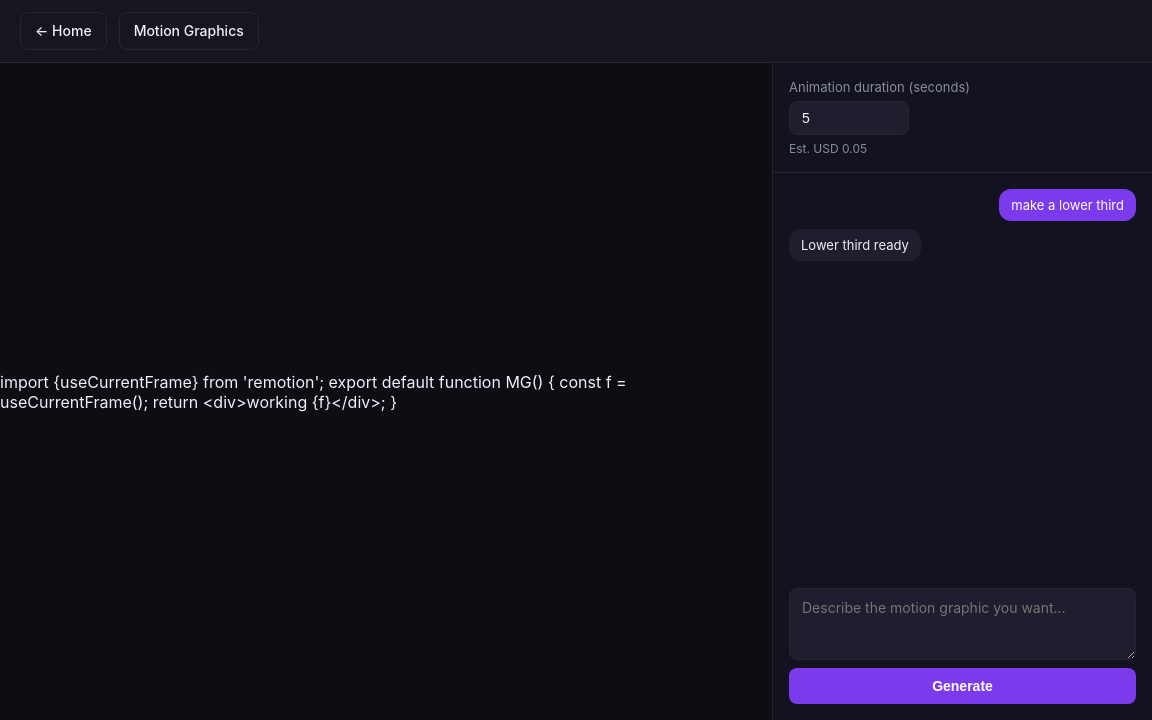
Test case: MotionGraphicAuthoringView (refine + hydration) › records a failed refinement and KEEPS the last working preview unchanged
Expected: the text with test id "mg-preview" shows "working", [0,372,627,412]
Type "Make the name slide in from the left instead." into the text box labelled "Describe the motion graphic you want…" at (962, 624), box [789,588,1136,660]
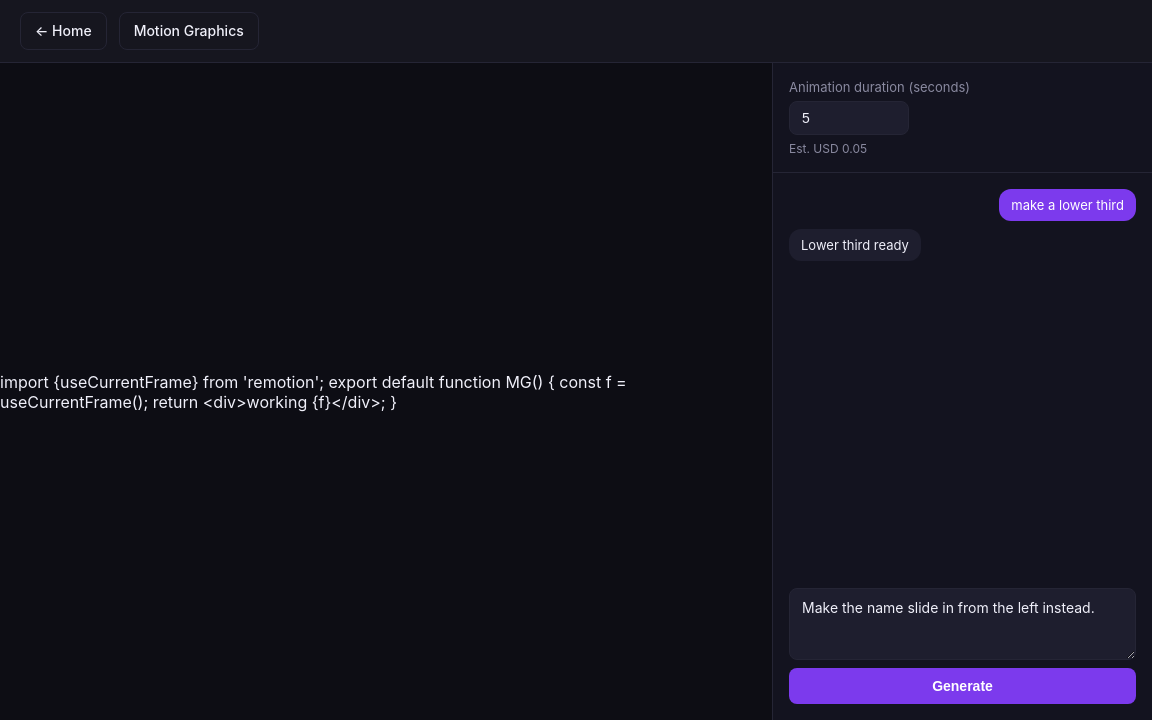
Click the button "Generate" at (962, 686), box [789,668,1136,704]
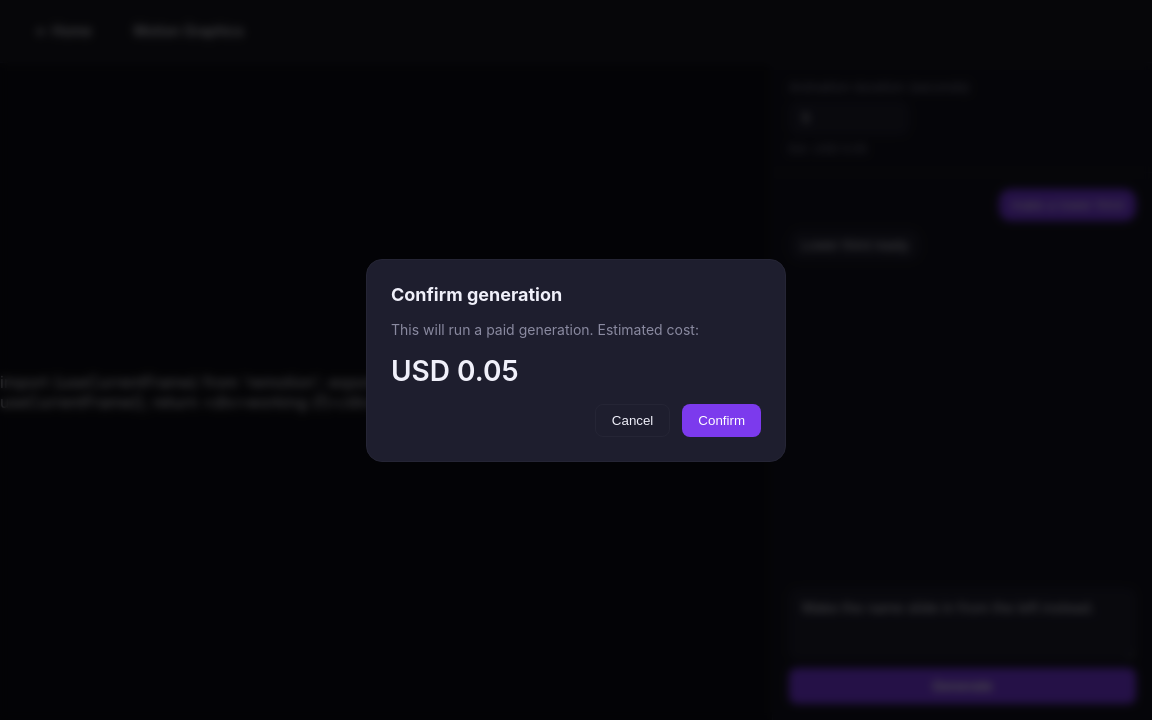
Click the button "Confirm" at (722, 420), box [682,404,761,436]
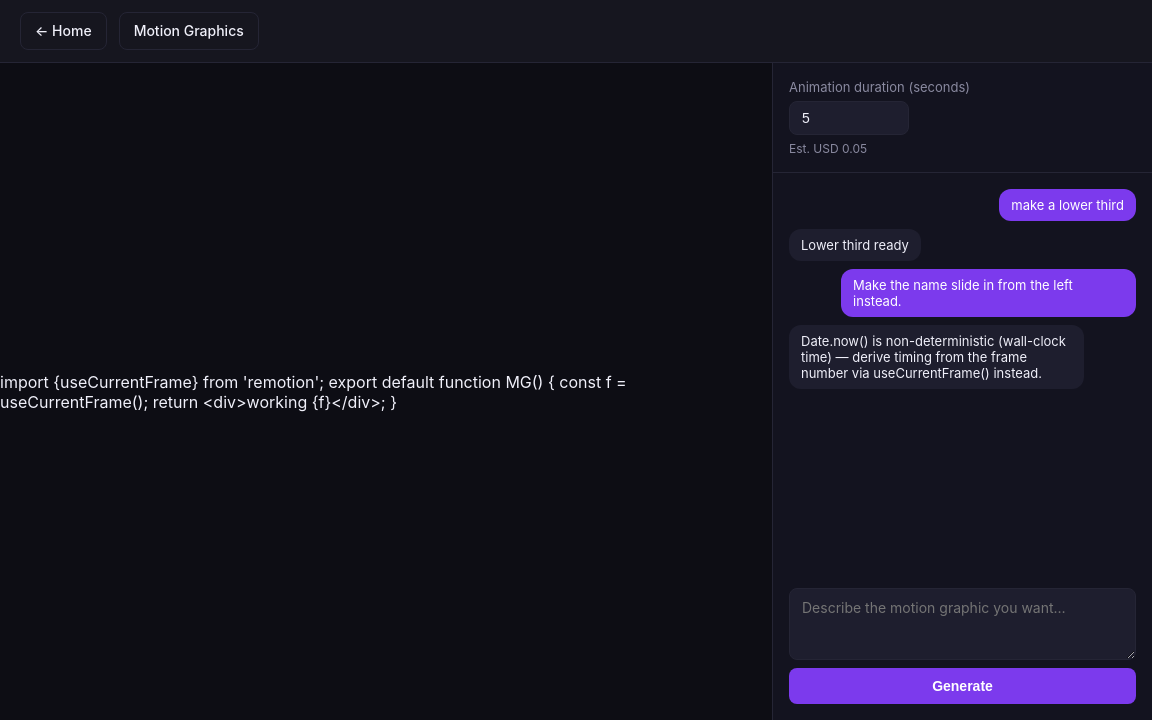
Expected: the text with test id "mg-preview" shows "working", [0,372,627,412]
Now the list item with test id "mg-chat-error" is shown, box [789,325,1084,389]
